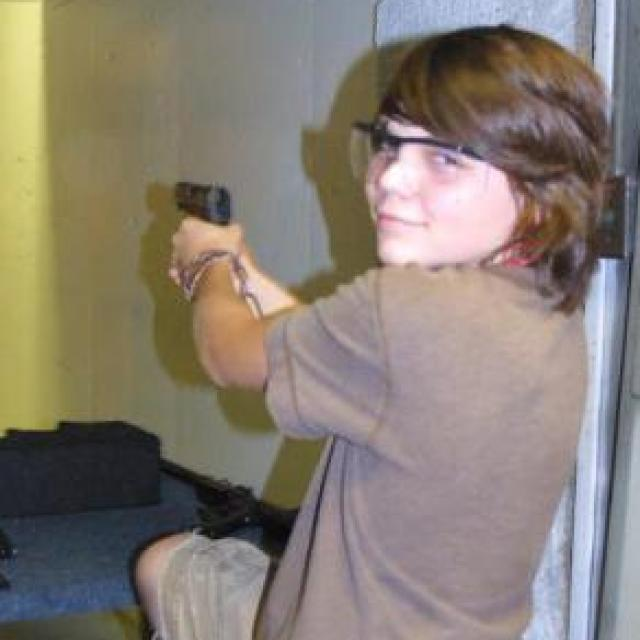pistol: (172, 178, 232, 231)
